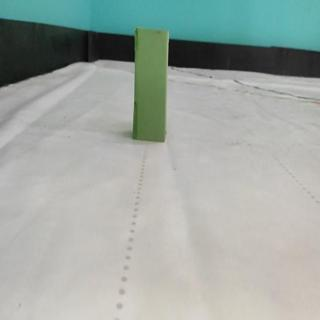greenbox: (131, 24, 170, 142)
